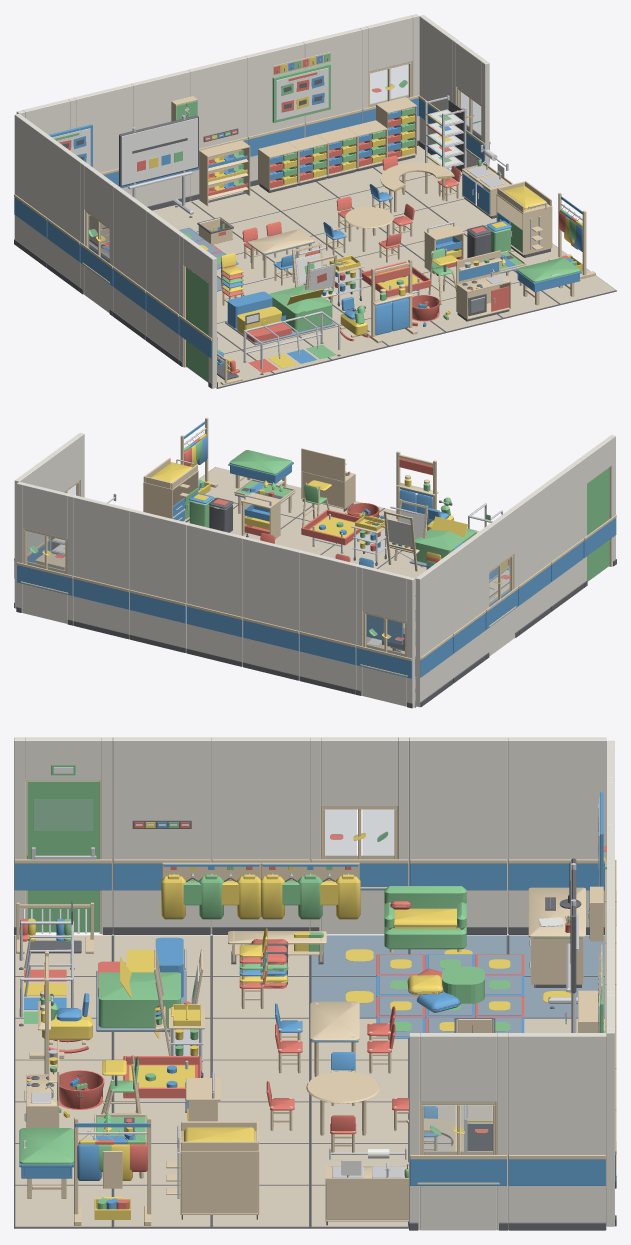
The model's file is nursery_primary_classroom.glb.
The picture shows the model from 3 angles, top to bottom: view 1: azimuth 30°, elevation 25°; view 2: azimuth 150°, elevation 25°; view 3: azimuth 270°, elevation 25°; orthographic projection. The views are drawn at different scales.
Visible parts, largest first — view 1: 045-classroom-wall-module/0, 055-classroom-wall-module/0, 054-classroom-wall-module/0, 049-classroom-wall-module/0, 051-classroom-wall-module/0, 044-classroom-wall-module/0, 058-interactive-whiteboard-stand/2, 043-classroom-wall-module/0, 047-classroom-wall-module/0, 046-classroom-wall-module/0, 048-classroom-wall-window-module/0, 050-classroom-wall-module/0 (+76 smaller); view 2: 043-classroom-wall-module/0, 044-classroom-wall-module/0, 046-classroom-wall-module/0, 045-classroom-wall-module/0, 047-classroom-wall-module/0, 042-classroom-wall-window-module/0, 048-classroom-wall-window-module/0, 049-classroom-wall-module/0, 051-classroom-wall-module/0, 055-classroom-wall-module/0, 054-classroom-wall-module/0, 053-classroom-wall-window-module/0 (+47 smaller); view 3: 050-classroom-wall-module/0, 055-classroom-wall-module/0, 051-classroom-wall-module/0, 054-classroom-wall-module/0, 049-classroom-wall-module/0, 052-classroom-wall-window-module/0, 053-classroom-wall-window-module/0, 056-fire-exit-door-module/exit-door/green, 112-changing-station-unit/0, 056-fire-exit-door-module/0, 057-teachers-desk/0, 100-child-sink-unit/0 (+90 smaller).
Boxes of the visible parts, bbox=[...] form: 045-classroom-wall-module/0: bbox=[188, 56, 247, 200]; 055-classroom-wall-module/0: bbox=[146, 210, 183, 359]; 054-classroom-wall-module/0: bbox=[113, 186, 150, 335]; 049-classroom-wall-module/0: bbox=[14, 113, 51, 262]; 051-classroom-wall-module/0: bbox=[47, 138, 84, 286]; 044-classroom-wall-module/0: bbox=[131, 70, 190, 206]; 058-interactive-whiteboard-stand/2: bbox=[121, 118, 197, 185]; 043-classroom-wall-module/0: bbox=[74, 83, 133, 196]; 047-classroom-wall-module/0: bbox=[303, 28, 361, 137]; 046-classroom-wall-module/0: bbox=[245, 42, 304, 181]; 048-classroom-wall-window-module/0: bbox=[360, 14, 418, 140]; 050-classroom-wall-module/0: bbox=[419, 15, 456, 145]; 043-classroom-wall-module/0: bbox=[299, 550, 358, 689]; 044-classroom-wall-module/0: bbox=[243, 537, 301, 680]; 046-classroom-wall-module/0: bbox=[130, 509, 188, 652]; 045-classroom-wall-module/0: bbox=[186, 523, 244, 666]; 047-classroom-wall-module/0: bbox=[73, 495, 132, 638]; 042-classroom-wall-window-module/0: bbox=[356, 564, 415, 707]; 048-classroom-wall-window-module/0: bbox=[16, 481, 75, 624]; 049-classroom-wall-module/0: bbox=[415, 554, 452, 707]; 051-classroom-wall-module/0: bbox=[448, 530, 485, 678]; 055-classroom-wall-module/0: bbox=[546, 459, 583, 606]; 054-classroom-wall-module/0: bbox=[514, 482, 550, 630]; 053-classroom-wall-window-module/0: bbox=[481, 506, 517, 656]; 050-classroom-wall-module/0: bbox=[508, 1033, 606, 1229]; 055-classroom-wall-module/0: bbox=[112, 737, 211, 934]; 051-classroom-wall-module/0: bbox=[409, 737, 507, 934]; 054-classroom-wall-module/0: bbox=[211, 737, 310, 933]; 049-classroom-wall-module/0: bbox=[508, 737, 606, 934]; 052-classroom-wall-window-module/0: bbox=[409, 1033, 507, 1230]; 053-classroom-wall-window-module/0: bbox=[310, 737, 408, 934]; 056-fire-exit-door-module/exit-door/green: bbox=[27, 781, 99, 932]; 112-changing-station-unit/0: bbox=[166, 1121, 259, 1214]; 056-fire-exit-door-module/0: bbox=[14, 737, 112, 934]; 057-teachers-desk/0: bbox=[528, 887, 585, 984]; 100-child-sink-unit/0: bbox=[325, 1165, 408, 1221].
Bounding box in the file's own units: 8.65 × 2.63 × 7.32.
